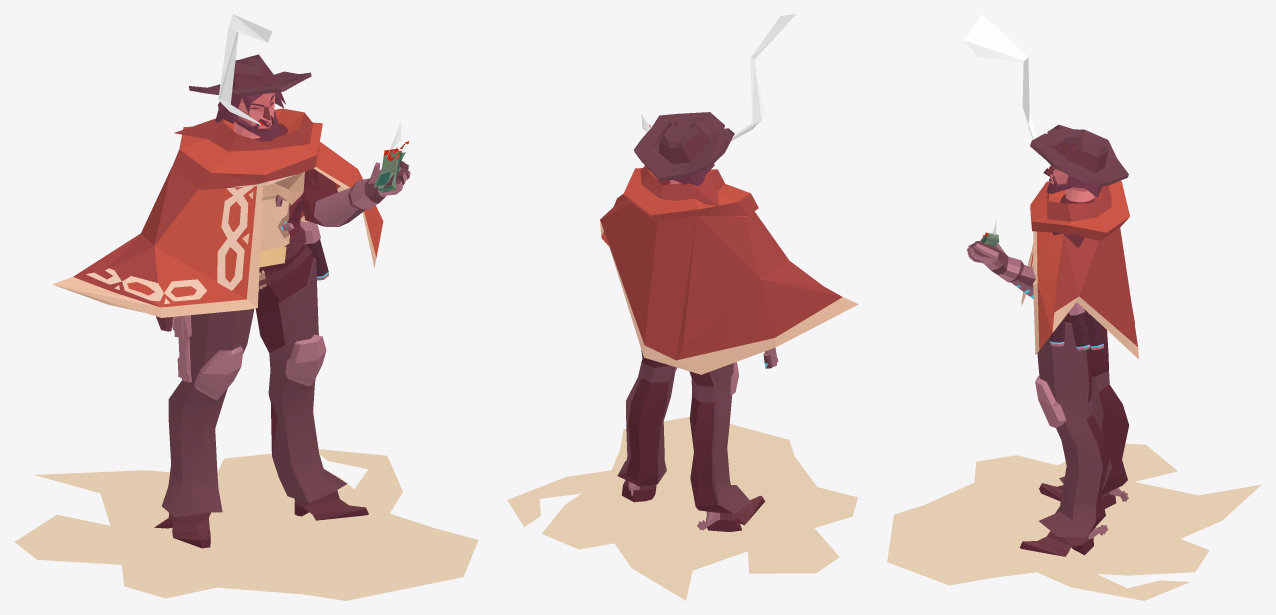
The model's file is mccree.glb.
3 renders of one model, left to right at view 1: azimuth 30°, elevation 25°; view 2: azimuth 150°, elevation 25°; view 3: azimuth 270°, elevation 25°, orthographic. The views are drawn at different scales.
Visible parts, largest first — view 1: base, half; view 2: base; view 3: base, half.
Boxes of the visible parts, left/top/right/bottom form: base: left=15, top=14, right=478, bottom=600; half: left=229, top=18, right=409, bottom=215; base: left=507, top=16, right=858, bottom=600; base: left=887, top=14, right=1261, bottom=600; half: left=964, top=14, right=1020, bottom=288.
Bounding box in the file's own units: 2.04 × 2.96 × 2.07.
1 material, 1 textured.
